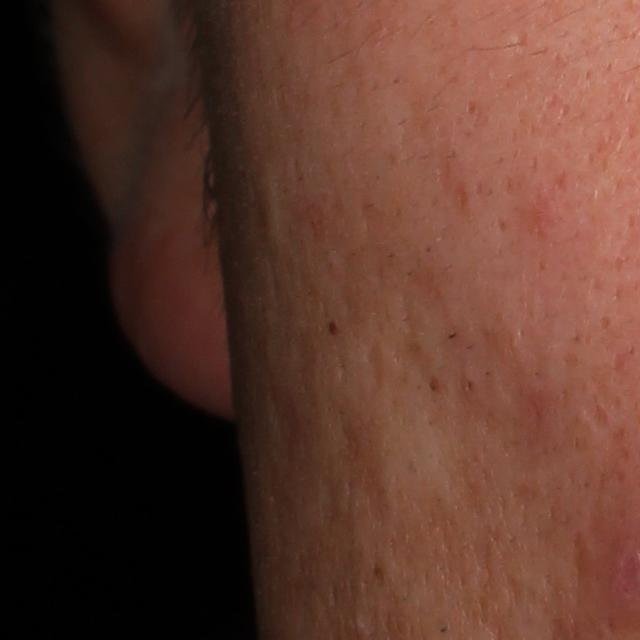atrophic_scar: (331, 418, 393, 516), (511, 31, 534, 55)
comedo: (461, 375, 479, 396)
